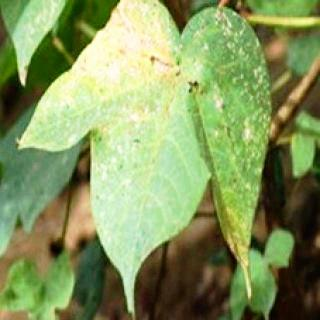grey mildew: (37, 5, 273, 221)
